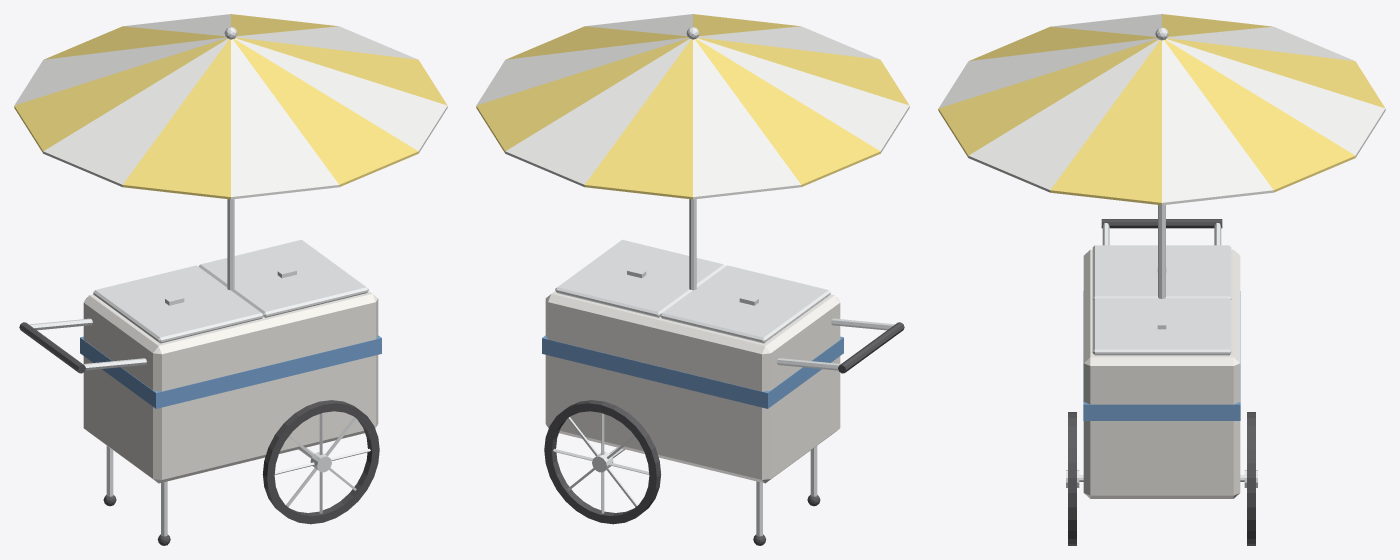
Rendered from ice_cream_cart.glb.
3 renders of one model, left to right at view 1: azimuth 30°, elevation 25°; view 2: azimuth 150°, elevation 25°; view 3: azimuth 270°, elevation 25°, orthographic. The views are drawn at different scales.
Parts seen in each view (by area): view 1: ice_cream_cart_cart_w, ice_cream_cart_umbrella, ice_cream_cart_paint_w, ice_cream_cart_chrome, ice_cream_cart_rubber, ice_cream_cart_flag_b; view 2: ice_cream_cart_cart_w, ice_cream_cart_umbrella, ice_cream_cart_paint_w, ice_cream_cart_chrome, ice_cream_cart_rubber, ice_cream_cart_flag_b; view 3: ice_cream_cart_umbrella, ice_cream_cart_paint_w, ice_cream_cart_cart_w, ice_cream_cart_chrome, ice_cream_cart_rubber, ice_cream_cart_flag_b.
Part boxes in pixels (x1,y1,x2,y2): ice_cream_cart_cart_w: (83,291,378,483); ice_cream_cart_umbrella: (14,14,447,199); ice_cream_cart_paint_w: (14,14,447,199); ice_cream_cart_chrome: (29,27,370,536); ice_cream_cart_rubber: (19,322,379,545); ice_cream_cart_flag_b: (80,335,381,408); ice_cream_cart_cart_w: (545,291,840,483); ice_cream_cart_umbrella: (476,14,909,199); ice_cream_cart_paint_w: (476,14,909,199); ice_cream_cart_chrome: (553,27,894,536); ice_cream_cart_rubber: (544,322,904,545); ice_cream_cart_flag_b: (542,335,843,408); ice_cream_cart_umbrella: (938,14,1384,205); ice_cream_cart_paint_w: (939,14,1385,205); ice_cream_cart_cart_w: (1083,249,1240,498); ice_cream_cart_chrome: (1066,27,1257,487); ice_cream_cart_rubber: (1068,219,1255,545); ice_cream_cart_flag_b: (1083,291,1240,420).
Bounding box in the file's own units: 2 × 2.42 × 2.
